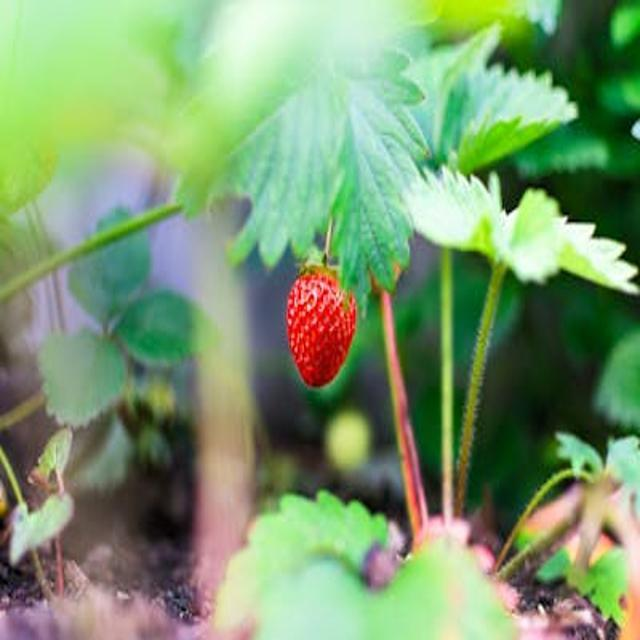Saludable: (284, 269, 358, 389)
